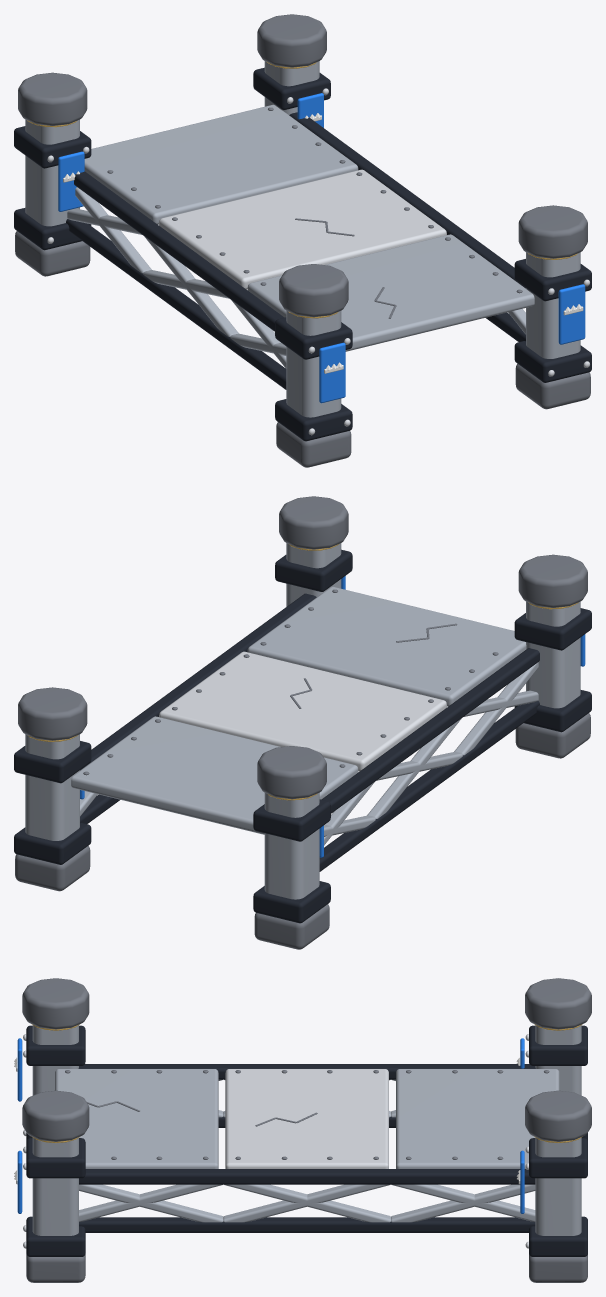
The model's file is steel-bridge.glb.
3 renders of one model, top to bottom at view 1: azimuth 30°, elevation 25°; view 2: azimuth 150°, elevation 25°; view 3: azimuth 270°, elevation 25°, orthographic. The views are drawn at different scales.
Parts seen in each view (by area): view 1: broad riveted steel road plate, long riveted side beam, steel deck rivet, broad riveted steel road plate.001, blue hanging team banner.002, blue hanging team banner, blue hanging team banner.001, blue hanging team banner.003; view 2: broad riveted steel road plate, long riveted side beam, steel deck rivet, broad riveted steel road plate.001; view 3: broad riveted steel road plate, long riveted side beam, broad riveted steel road plate.001, steel deck rivet.
Boxes of the visible parts, <box> form: broad riveted steel road plate: <box>25,61,580,417</box>; long riveted side beam: <box>14,67,591,441</box>; steel deck rivet: <box>15,14,590,467</box>; broad riveted steel road plate.001: <box>47,88,589,435</box>; blue hanging team banner.002: <box>558,284,585,344</box>; blue hanging team banner: <box>319,342,345,403</box>; blue hanging team banner.001: <box>58,151,84,211</box>; blue hanging team banner.003: <box>297,93,323,127</box>; broad riveted steel road plate: <box>25,543,580,899</box>; long riveted side beam: <box>14,549,591,923</box>; steel deck rivet: <box>15,496,590,949</box>; broad riveted steel road plate.001: <box>159,651,446,771</box>; broad riveted steel road plate: <box>32,1025,581,1235</box>; long riveted side beam: <box>26,1025,587,1256</box>; broad riveted steel road plate.001: <box>23,1034,528,1248</box>; steel deck rivet: <box>22,978,591,1282</box>.
Size of the model in its own units: 3.38 by 1.91 by 5.87.
